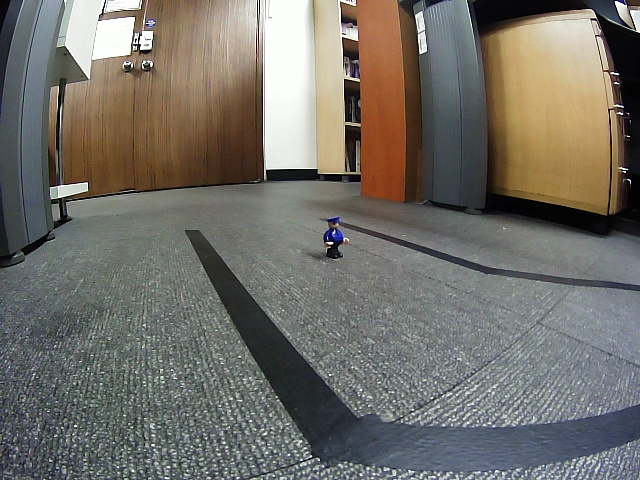person: (321, 216, 350, 261)
